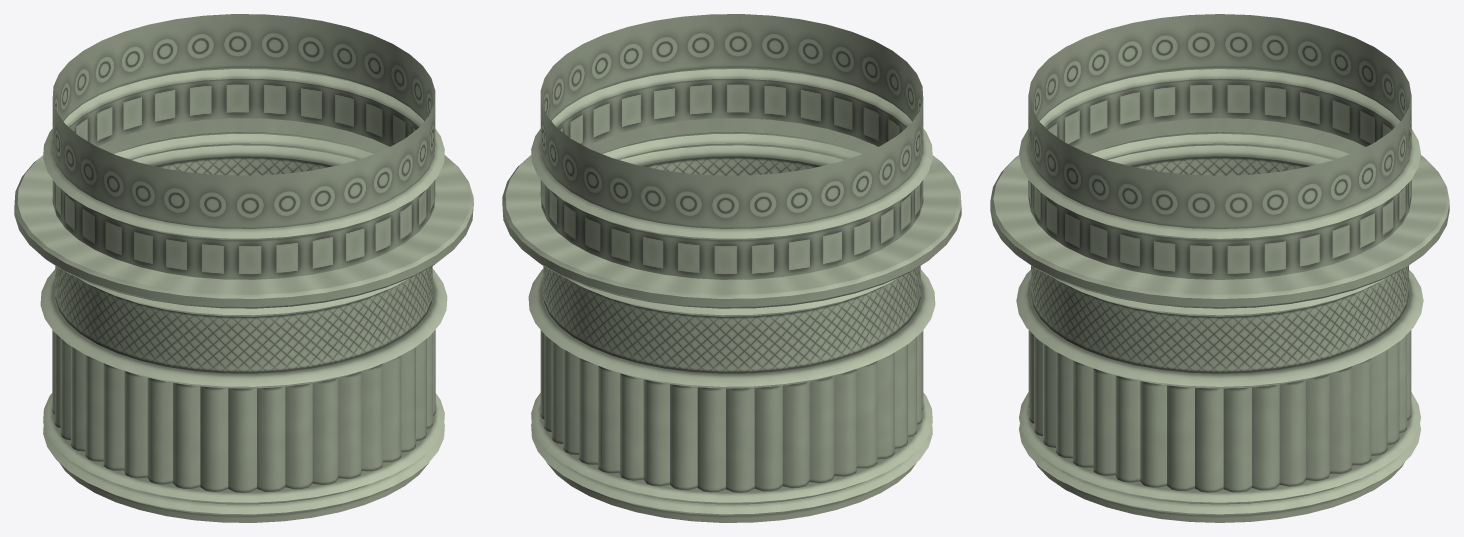
Rendered from Tower_Segment_Ribbed.fbx.
3 views of the same model, side by side, from view 1: azimuth 30°, elevation 25°; view 2: azimuth 150°, elevation 25°; view 3: azimuth 270°, elevation 25° (orthographic).
Visible parts, largest first — view 1: Tower_Segment_Ribbed; view 2: Tower_Segment_Ribbed; view 3: Tower_Segment_Ribbed.
Boxes of the visible parts, x1,y1,x2,y2 form: Tower_Segment_Ribbed: (14,14,473,522); Tower_Segment_Ribbed: (502,14,961,522); Tower_Segment_Ribbed: (990,14,1449,522).
Bounding box in the file's own units: 3.6 × 3 × 3.6.
1 material, 1 textured.
